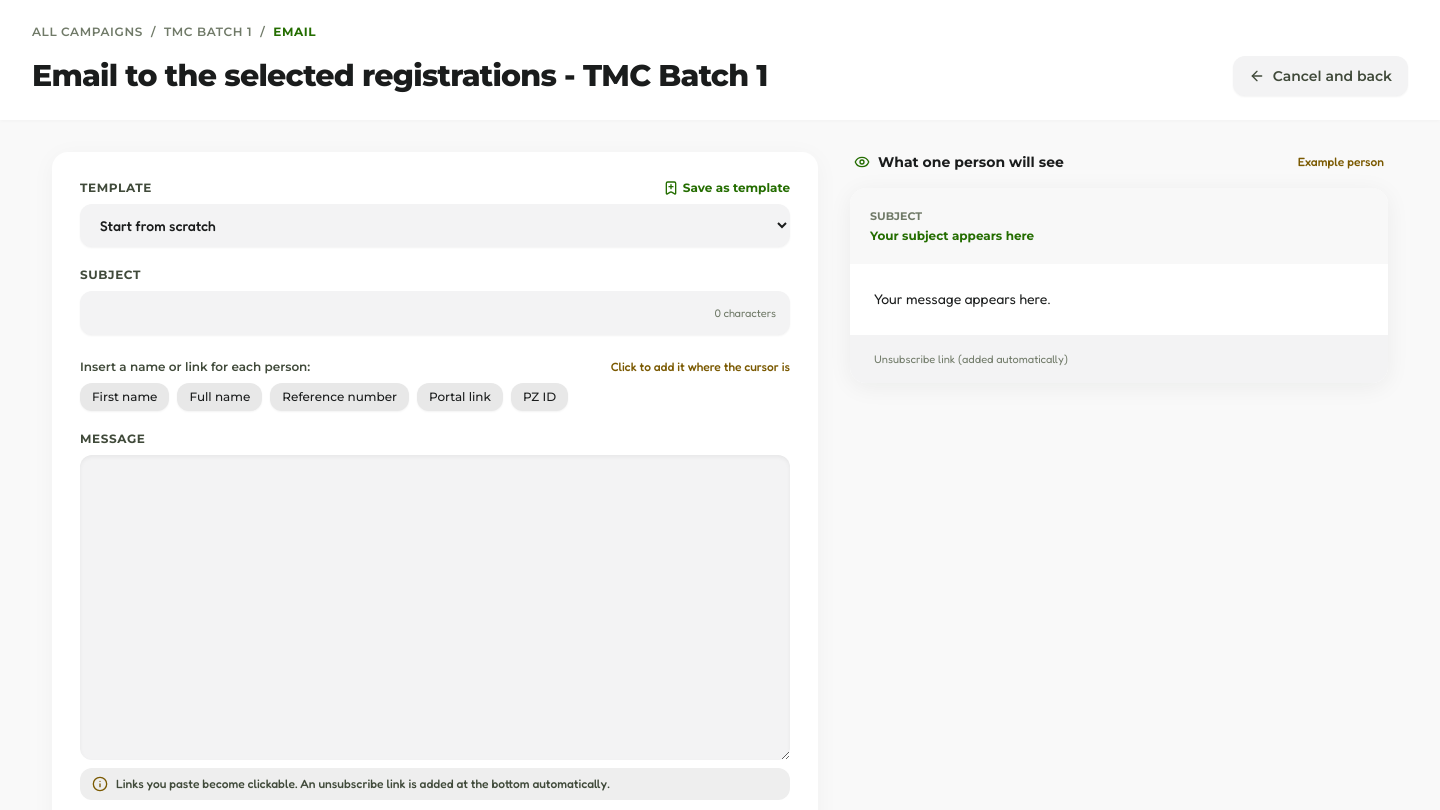
Scenario: review step › shows the exact not-paid numbers and requires the tick box before Confirm enables
The width and height of the screenshot is (1440, 810).
Type "Hello" into the field labelled "Subject" at {"x": 435, "y": 313}, box 80,291 -> 790,335
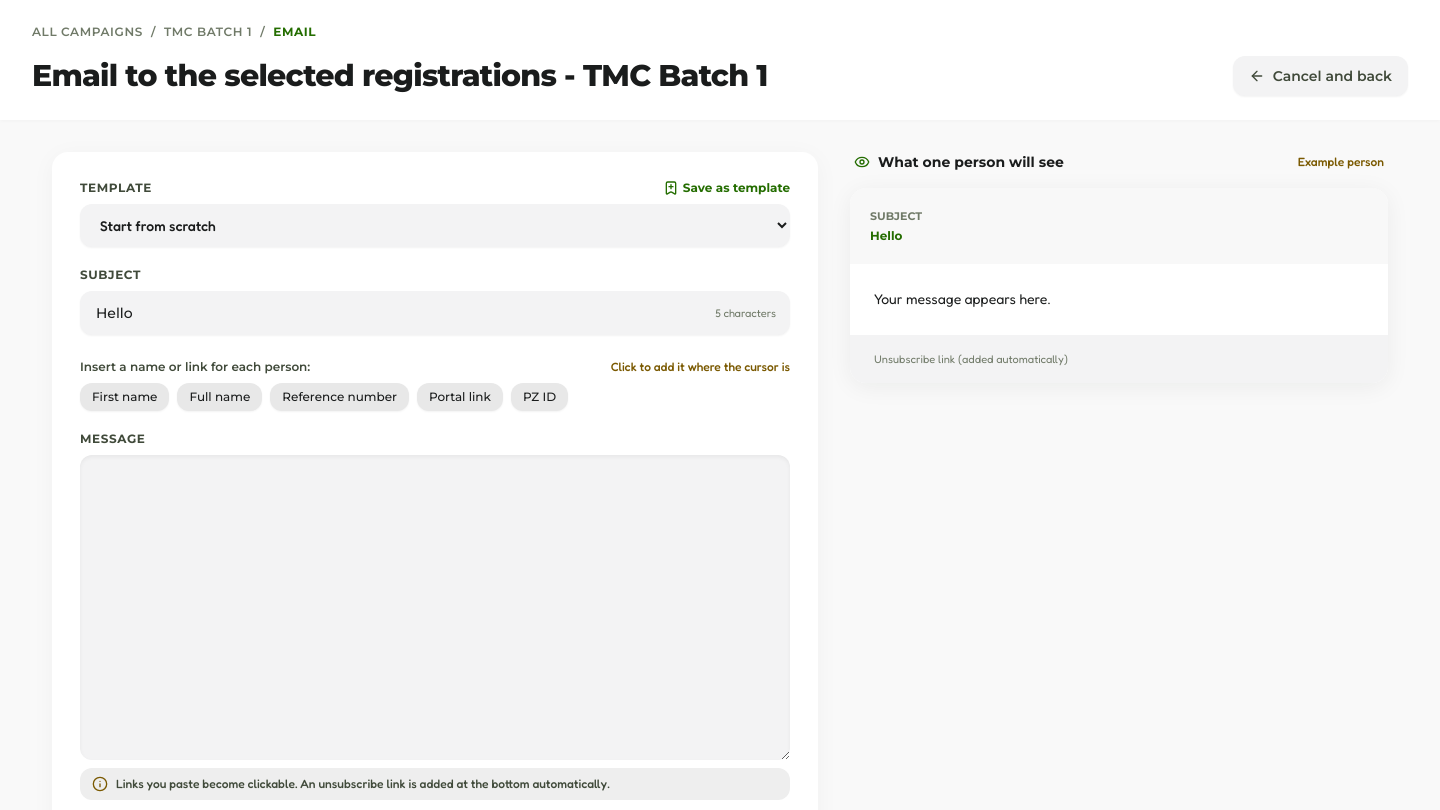
Type "Body text" into the text box labelled "Message" at {"x": 435, "y": 608}, box 80,455 -> 790,760
(page scrolled)
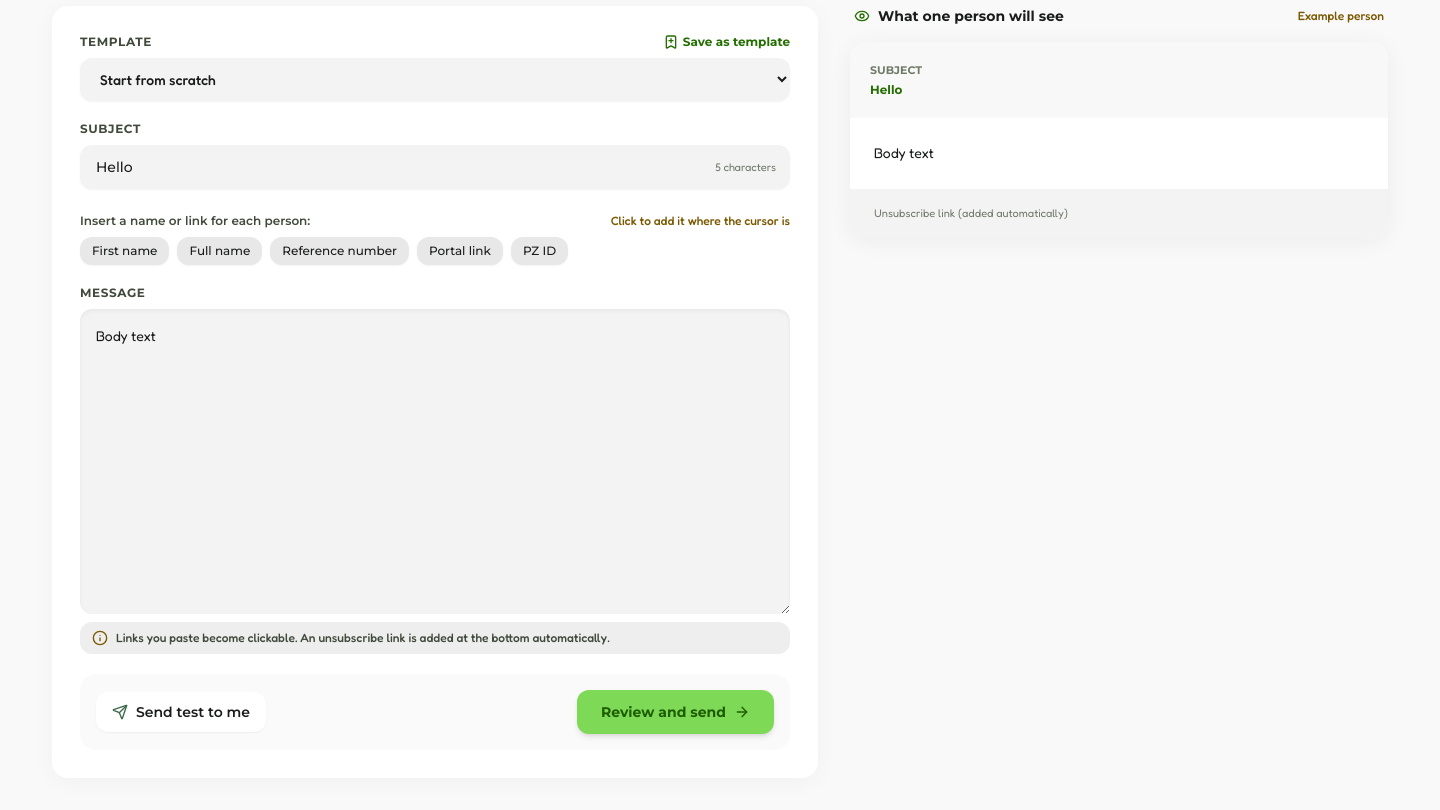
Click the button "Review and send" at {"x": 675, "y": 712}, box 577,690 -> 774,734
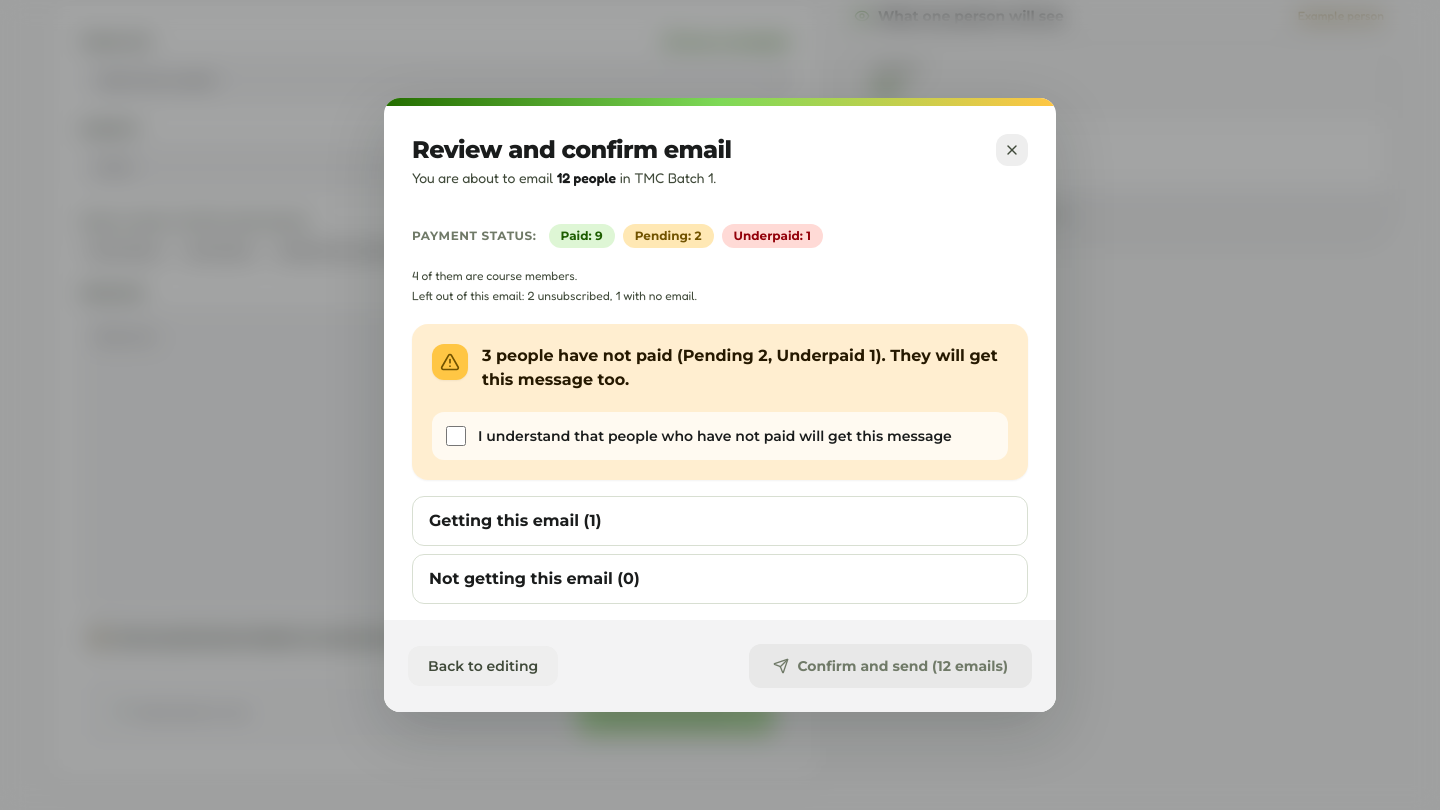
Result: the text "You are about to email 12 people in TMC Batch 1." is shown at 412,168 -> 731,188
Result: the heading "3 people have not paid (Pending 2, Underpaid 1). They will get this message too." is shown at 482,344 -> 1008,392
Result: the checkbox is not checked
Click the checkbox at {"x": 456, "y": 436}, box 446,426 -> 466,446
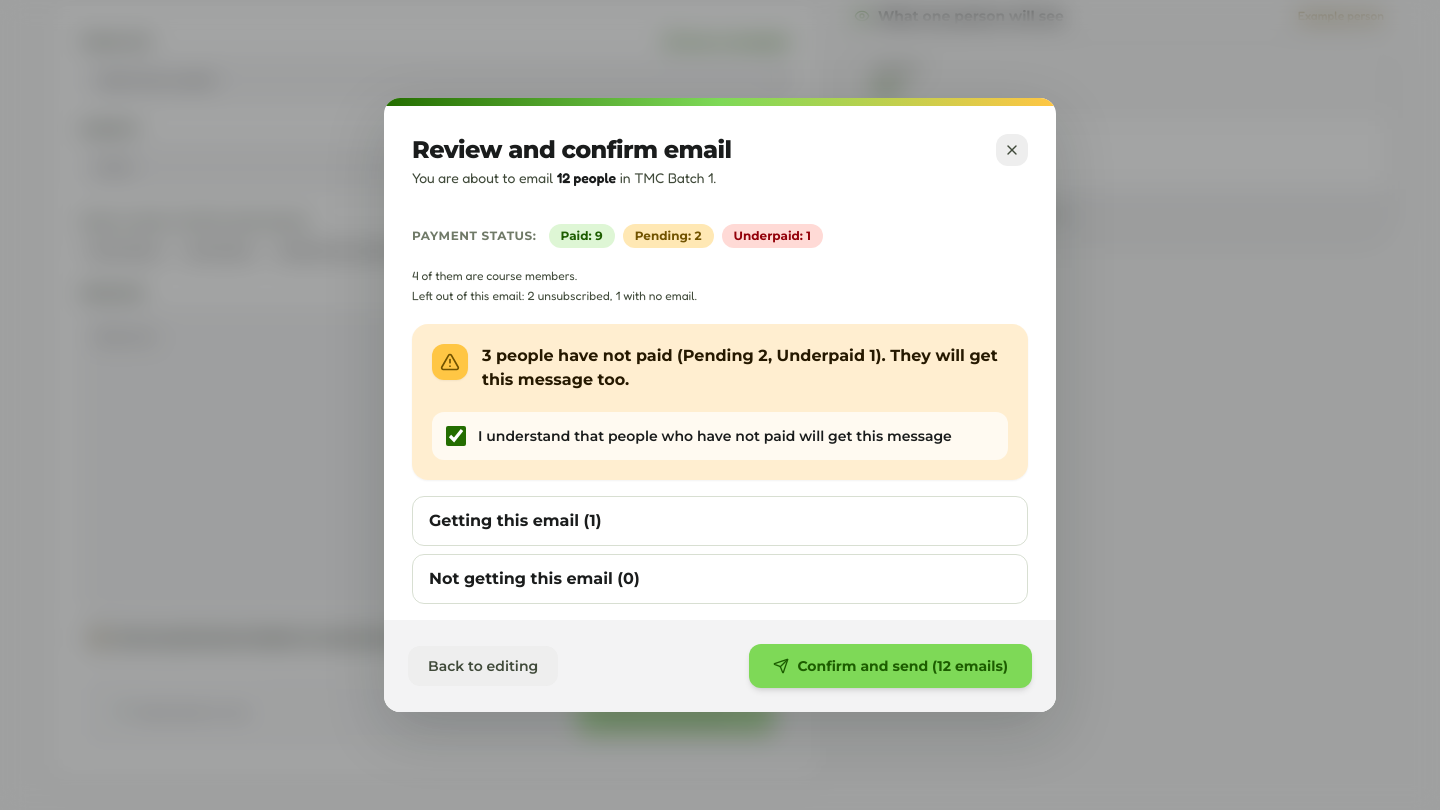
Result: the button "Confirm and send (12 emails)" is enabled at 749,644 -> 1032,688
Click the checkbox at {"x": 456, "y": 436}, box 446,426 -> 466,446
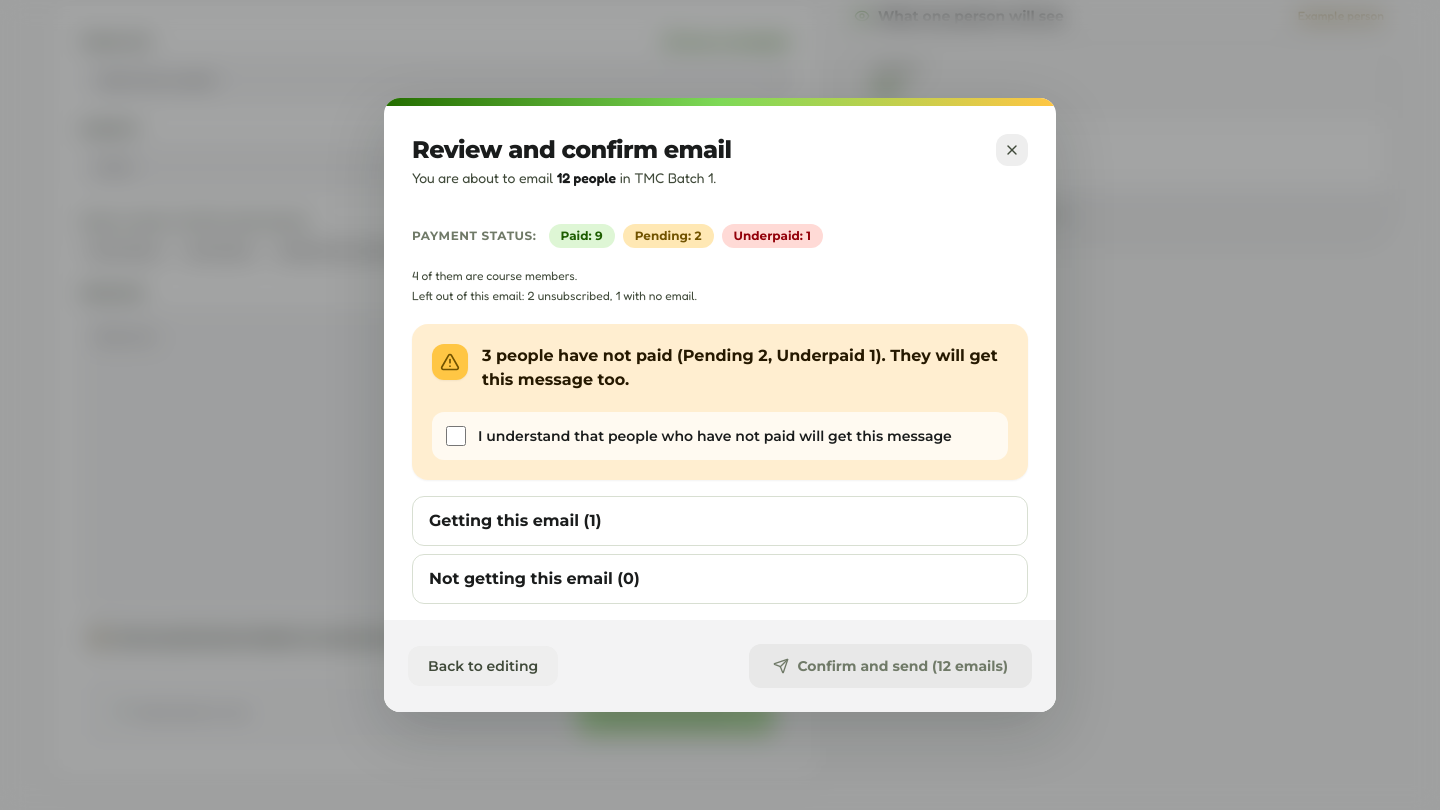
Result: the button "Confirm and send (12 emails)" is disabled at 749,644 -> 1032,688
